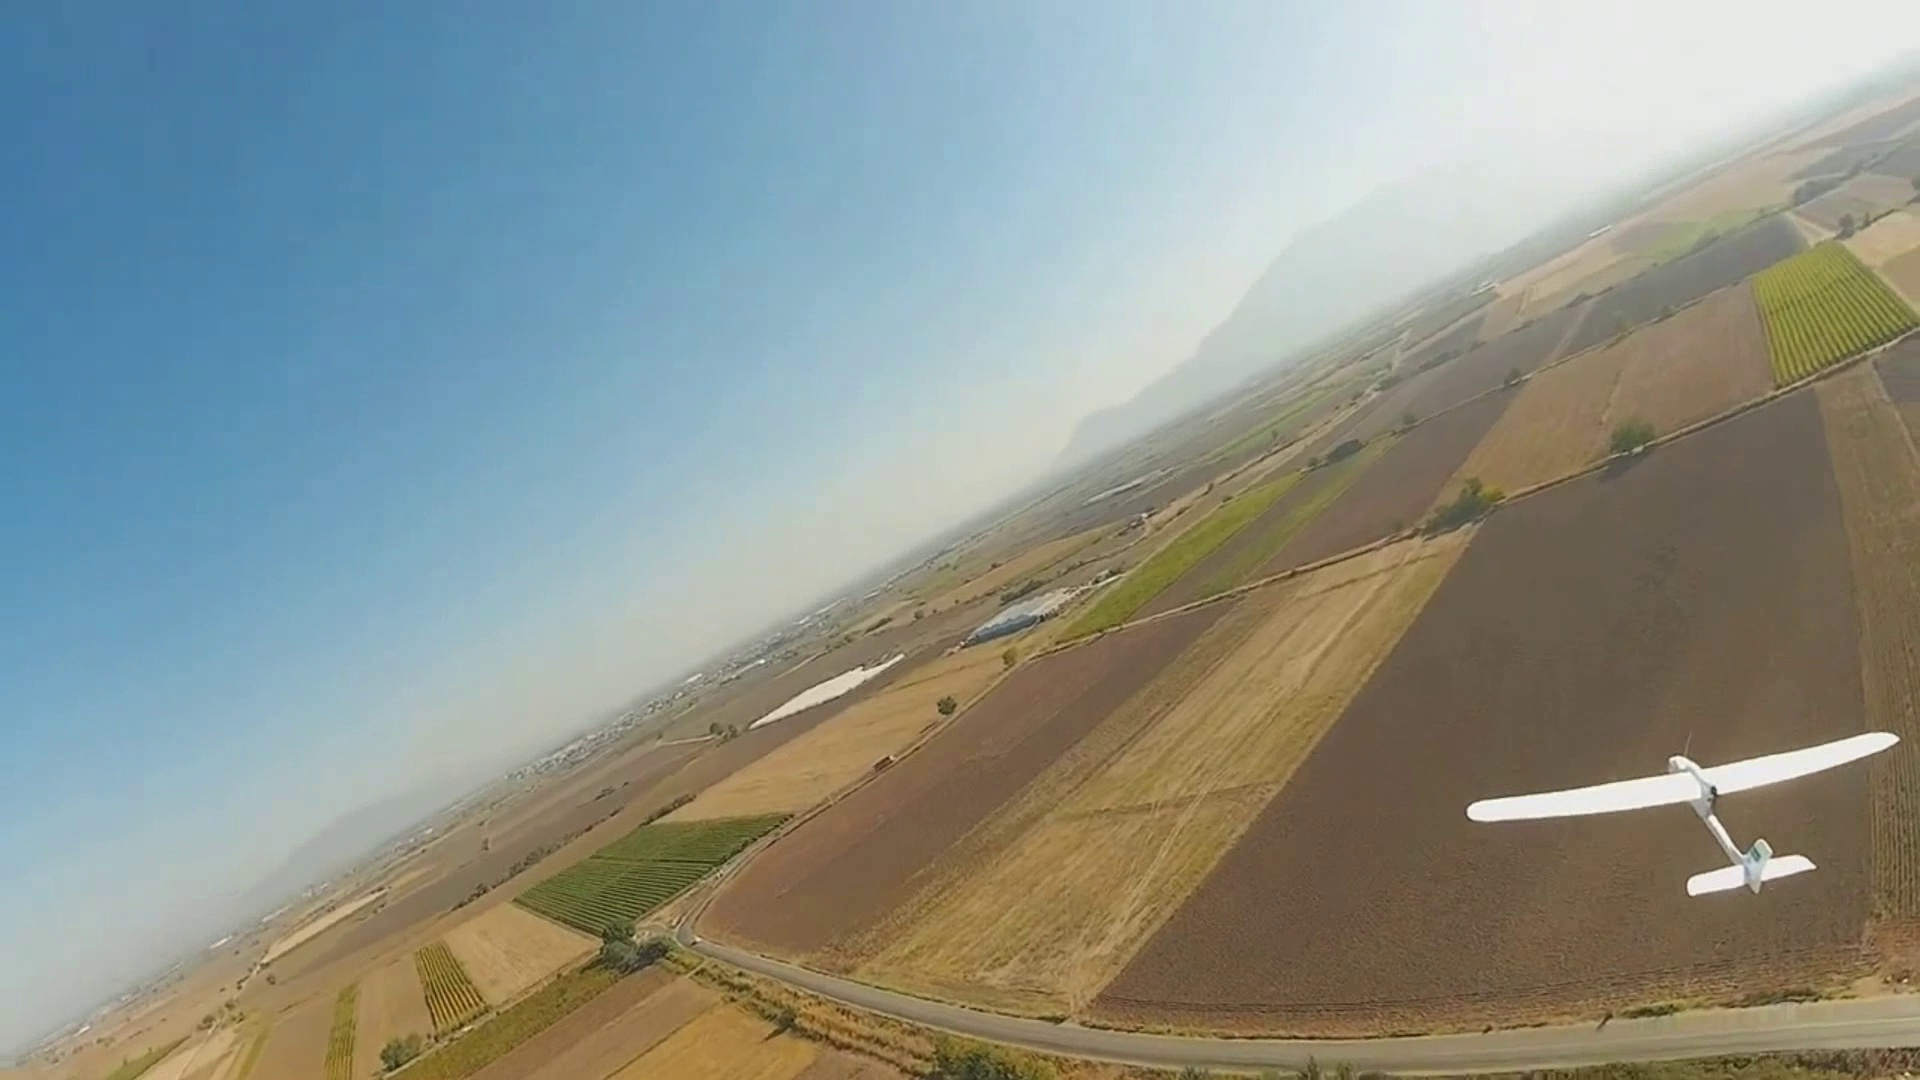airplane: (12, 54, 1920, 1053), (1465, 732, 1901, 895)
